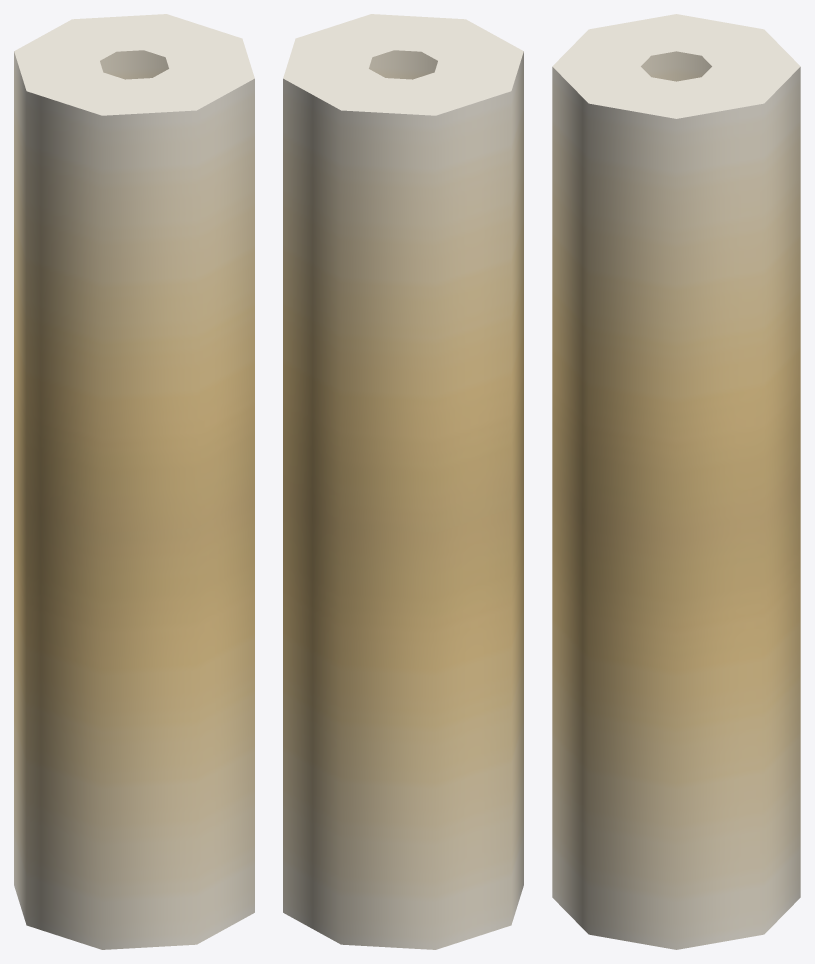
Rendered from HangingLight_03.fbx.
The picture shows the model from 3 angles, left to right: view 1: azimuth 30°, elevation 25°; view 2: azimuth 150°, elevation 25°; view 3: azimuth 270°, elevation 25°; orthographic projection.
Parts seen in each view (by area): view 1: CylidricalHangingLight; view 2: CylidricalHangingLight; view 3: CylidricalHangingLight.
Boxes of the visible parts, box(x1,y1,x2,y2) form: CylidricalHangingLight: box(14, 14, 254, 949); CylidricalHangingLight: box(283, 14, 523, 949); CylidricalHangingLight: box(552, 14, 800, 949).
Bounding box in the file's own units: 57.29 × 212 × 57.29.
